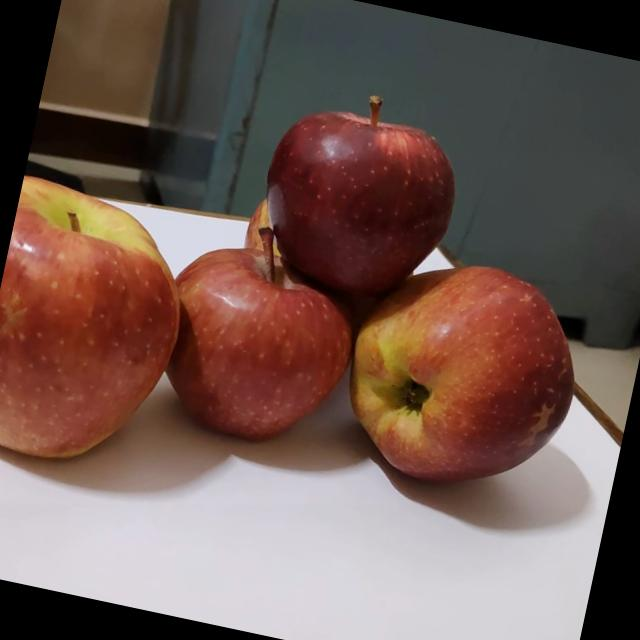apple: (319, 238, 597, 511), (0, 166, 200, 486), (238, 68, 482, 319), (142, 208, 374, 462), (239, 191, 427, 297)
